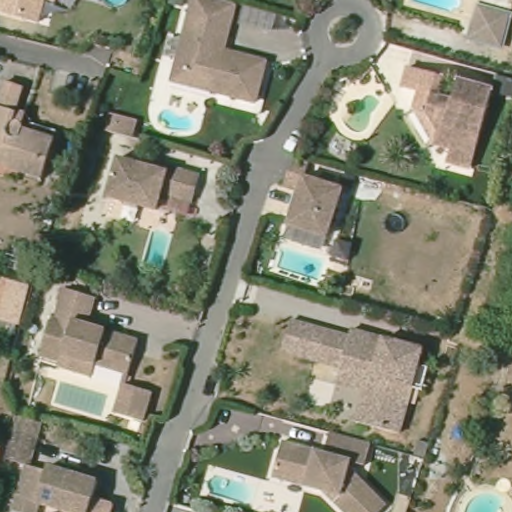pool: (277, 241, 336, 284), (49, 380, 112, 419), (201, 467, 258, 505), (135, 224, 175, 273), (454, 480, 512, 512), (151, 104, 199, 138), (343, 94, 380, 135), (406, 1, 465, 19), (104, 1, 131, 8)
